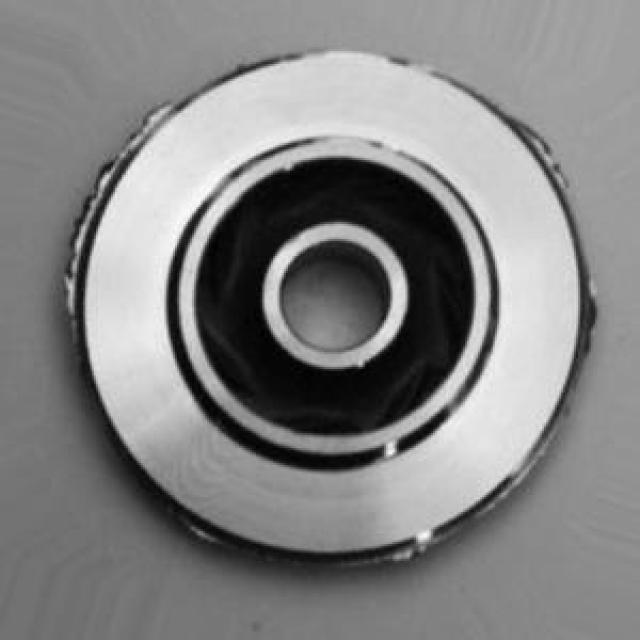Defect: (74, 149, 124, 205)
